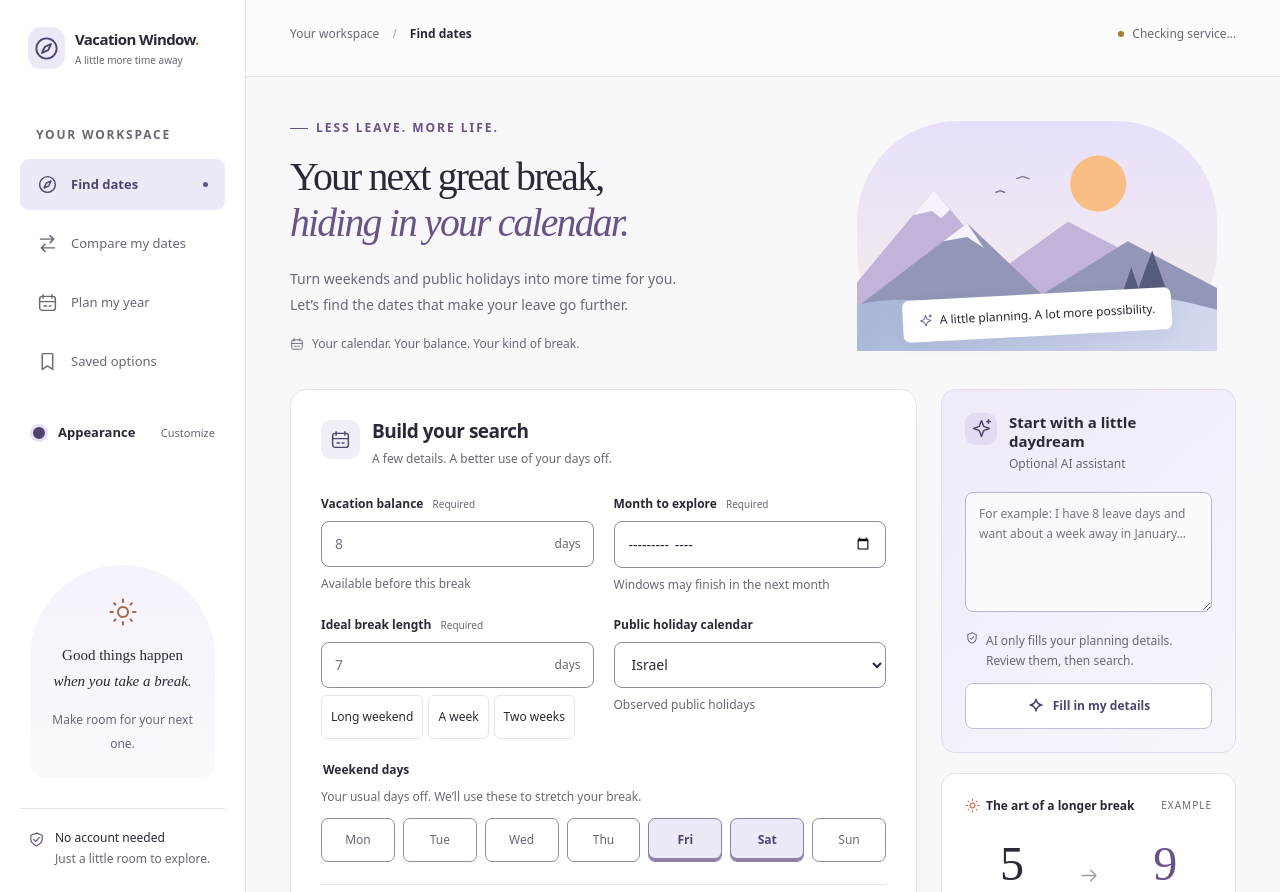
manual past months are rejected before creating a session
The width and height of the screenshot is (1280, 892).
In the number field labelled "Vacation balance": (457, 544) top-left (321, 521), bottom-right (594, 567), type "10"
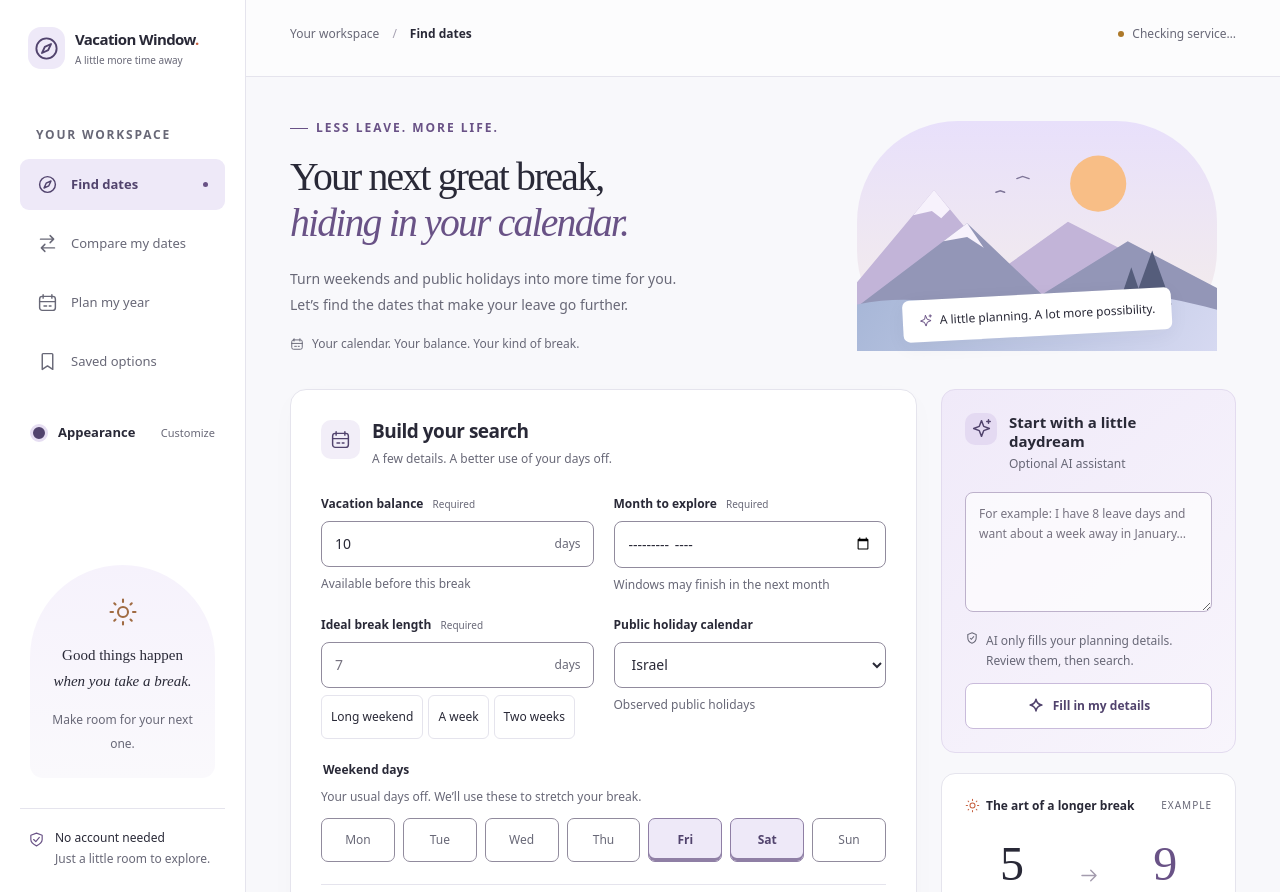
In the number field named "Preferred length in days": (457, 665) top-left (321, 642), bottom-right (594, 688), type "12"
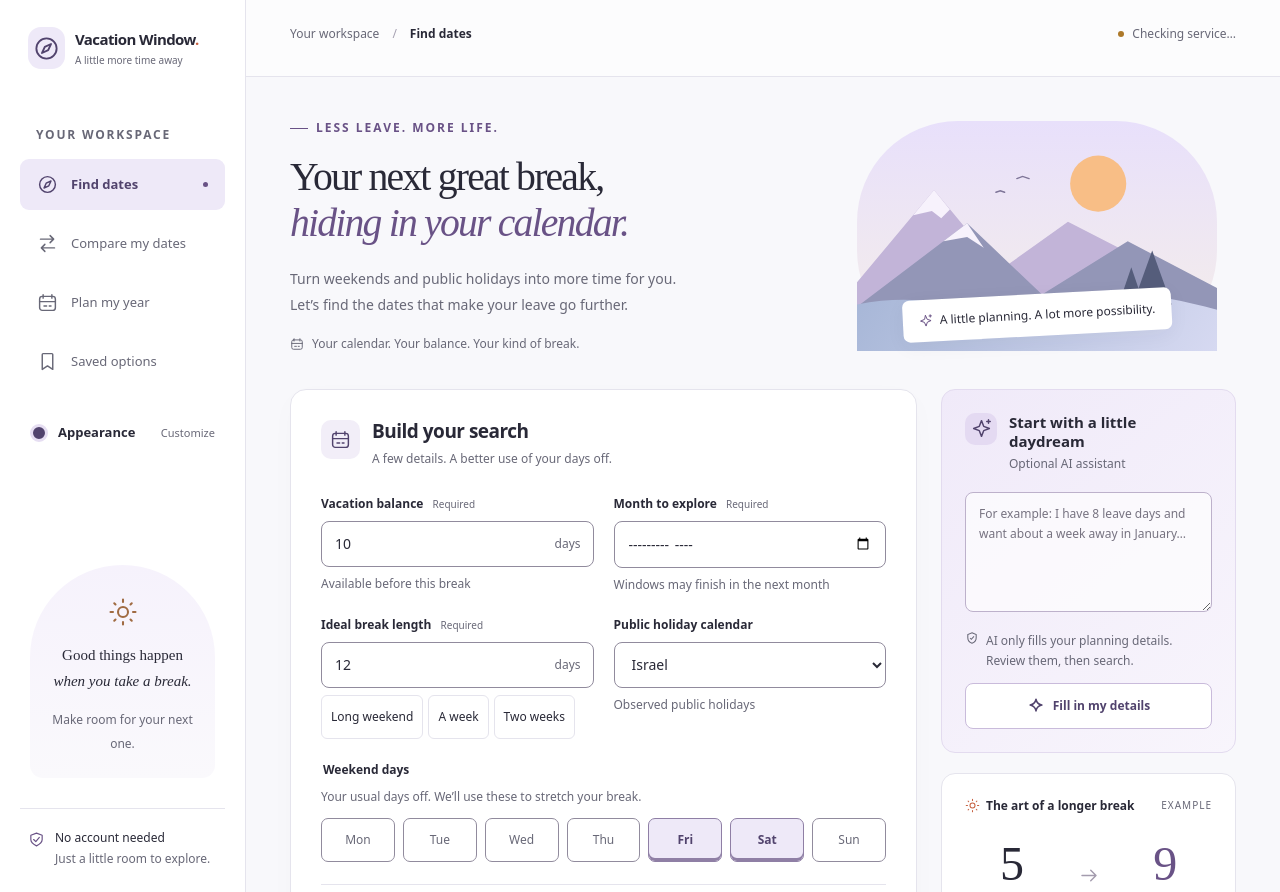
In the field named "Selected month": (750, 544) top-left (614, 521), bottom-right (886, 568), type "2025-04"
(page scrolled)
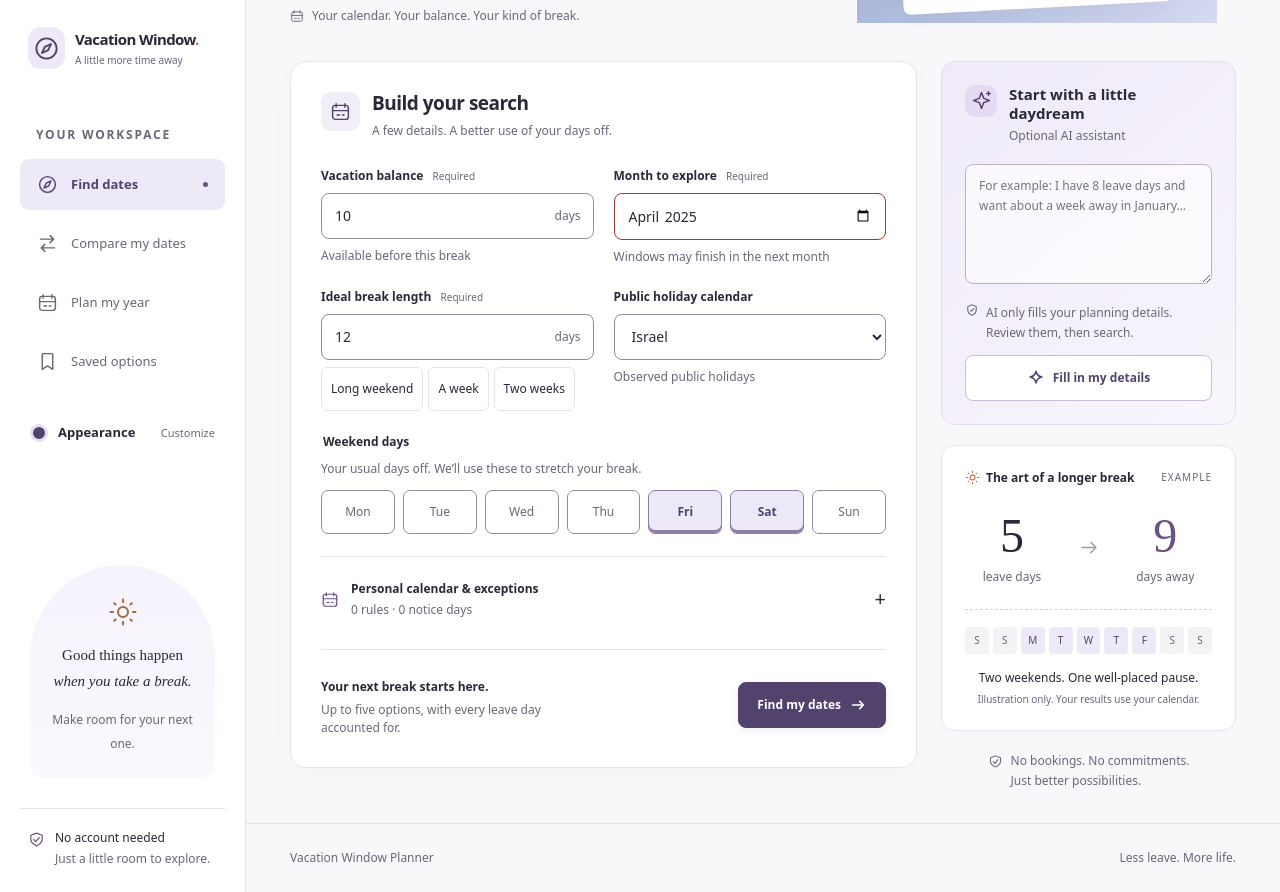
Click the button "Find my dates": (812, 705) top-left (738, 682), bottom-right (886, 728)
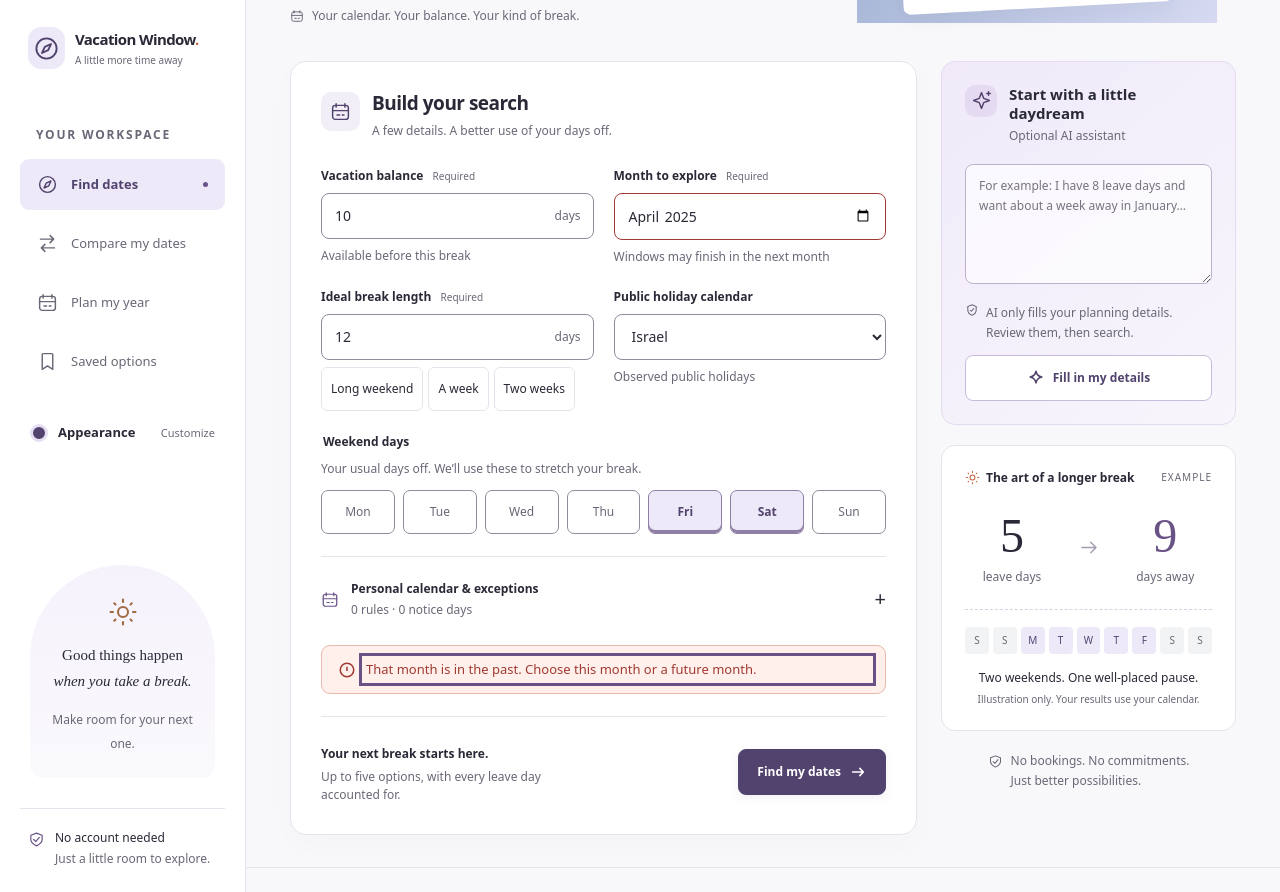
Expected: the message shows "past", top-left (366, 660), bottom-right (756, 678)
